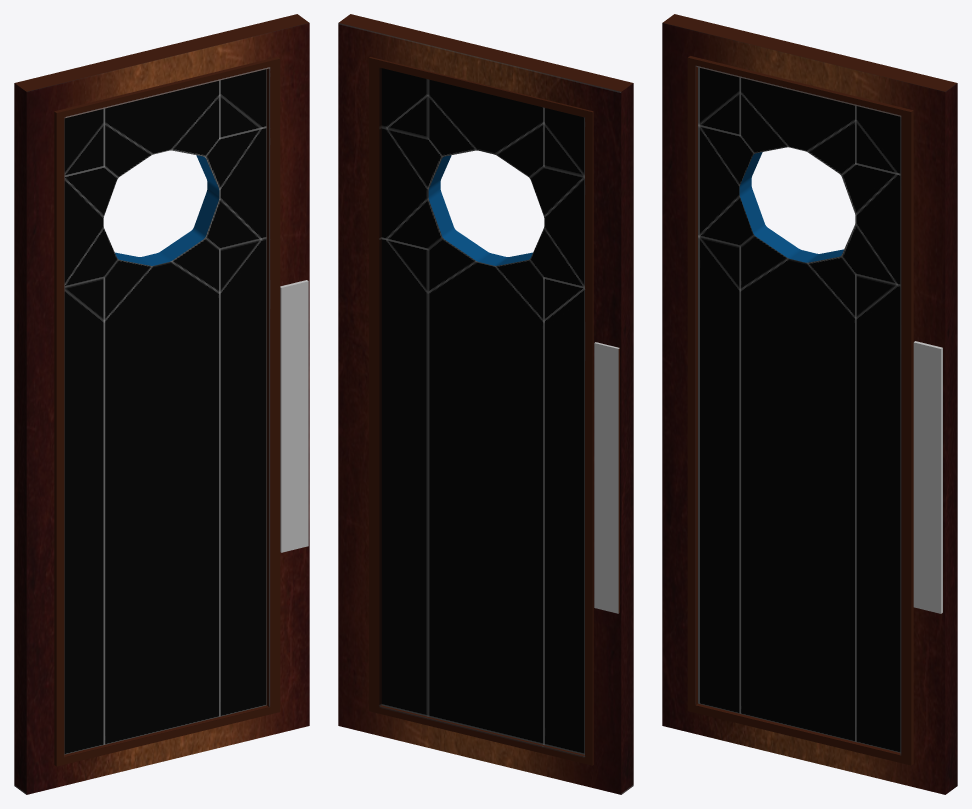
Rendered from kitchen door.fbx.
3 views of the same model, side by side, from view 1: azimuth 30°, elevation 25°; view 2: azimuth 150°, elevation 25°; view 3: azimuth 330°, elevation 25° (orthographic).
Visible parts, largest first — view 1: kitchen_doors1; view 2: kitchen_doors1; view 3: kitchen_doors1.
Part boxes in pixels (box(x1,y1,x2,y2)): kitchen_doors1: box(14, 14, 309, 794); kitchen_doors1: box(338, 14, 633, 794); kitchen_doors1: box(662, 14, 957, 794).
Bounding box in the file's own units: 14.95 × 35.51 × 1.45.
